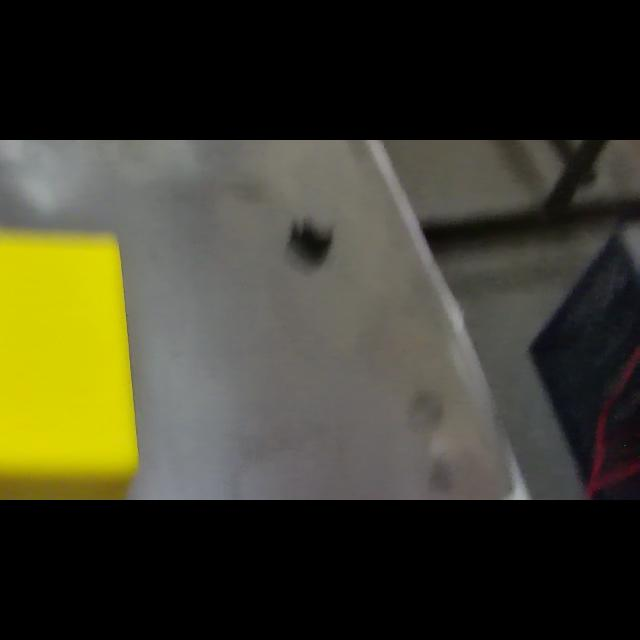yellowBox: (0, 225, 150, 500)
